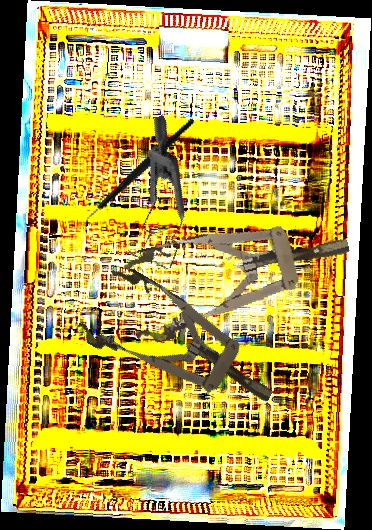Chopper: (59, 117, 218, 234)
Speculum: (72, 259, 292, 436), (117, 200, 360, 348), (78, 114, 230, 282)
